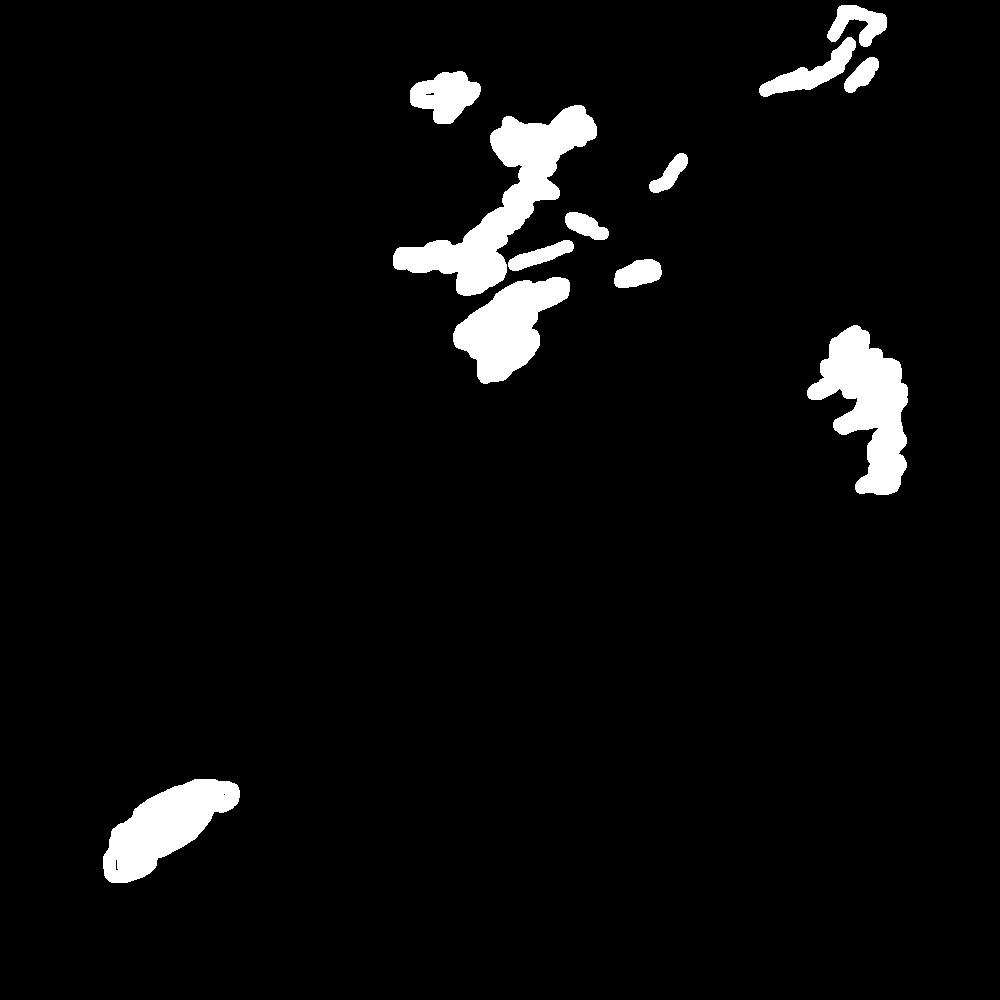illegal: (1, 598, 268, 877), (392, 108, 605, 394), (834, 331, 953, 544), (681, 578, 787, 649), (413, 64, 478, 111), (646, 150, 693, 195), (598, 257, 658, 289)
